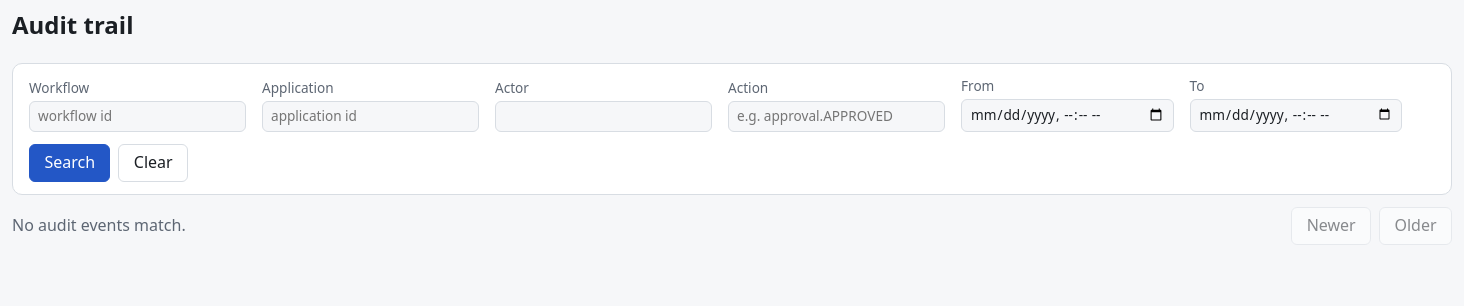
Test: searching the audit trail › refuses a malformed workflow id or an inverted range before asking the API
The image size is (1464, 306).
Expected: the text "No audit events match." is shown, [12, 214, 186, 237]
Type "not-a-uuid" into the field labelled "Workflow".
click(138, 116); type("not-a-uuid")  # box [29, 100, 246, 132]
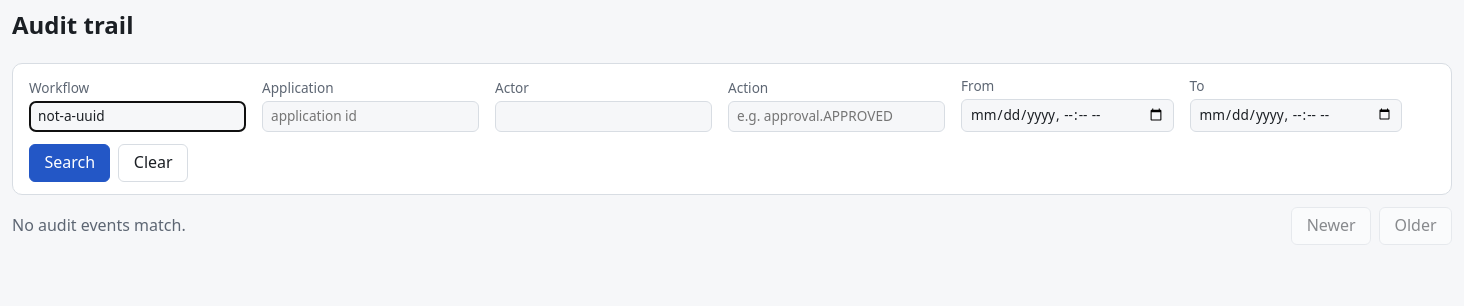
Click the button "Search".
click(70, 163)  # box [29, 144, 110, 182]
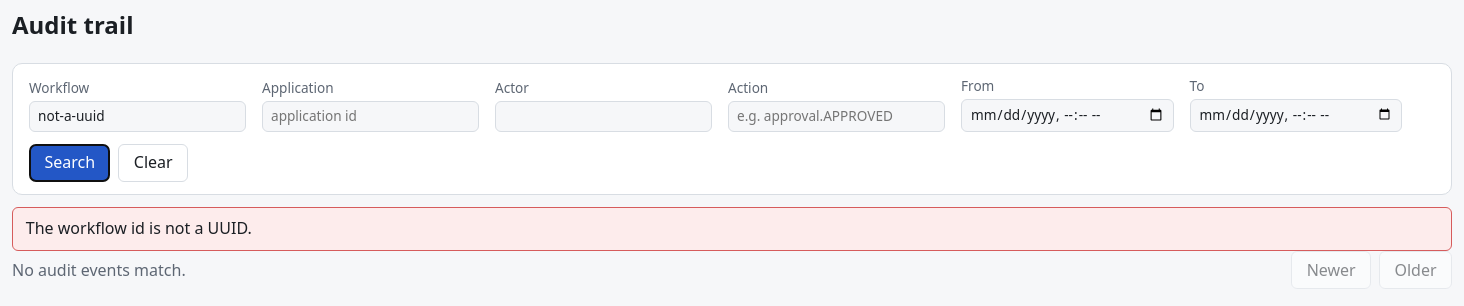
Expected: the message shows "not a UUID", [26, 217, 252, 239]
Clear the field labelled "Workflow" at [138, 116], box [29, 100, 246, 132]
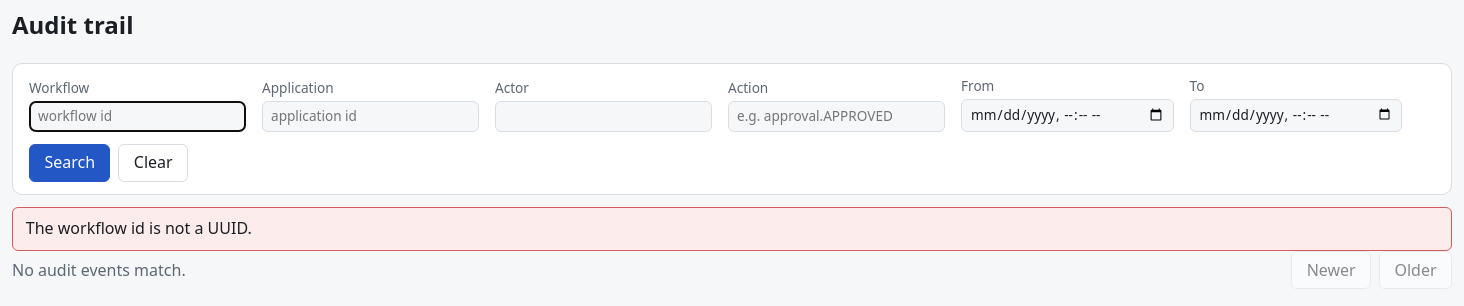
Type "2026-11-17T11:00" into the field labelled "From".
click(1067, 115); type("2026-11-17T11:00")  # box [961, 98, 1174, 132]
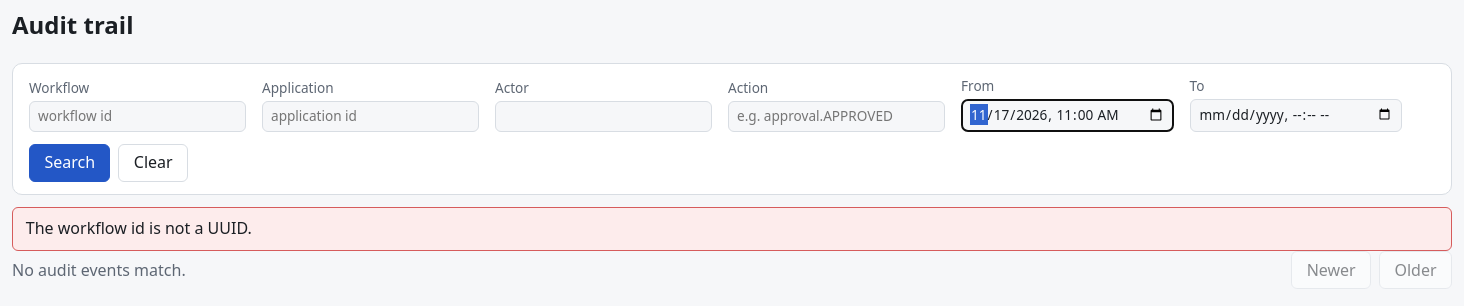
Type "2026-11-17T09:00" into the field labelled "To".
click(1296, 115); type("2026-11-17T09:00")  # box [1190, 98, 1402, 132]
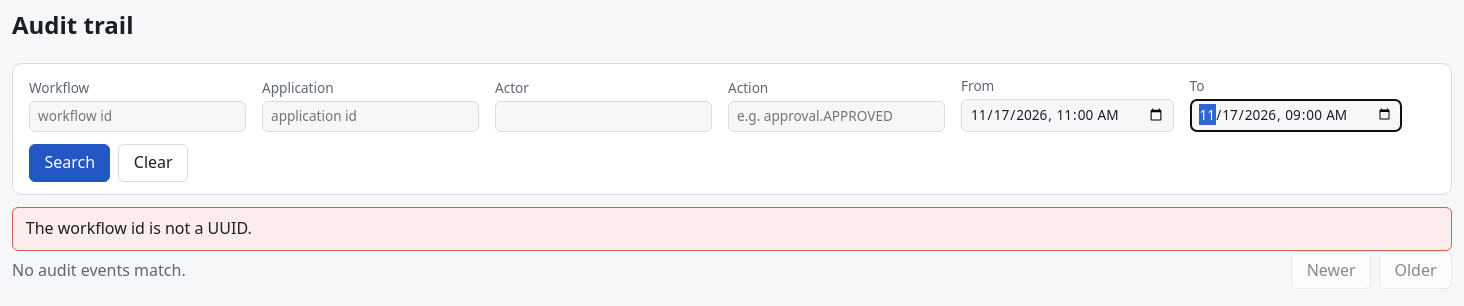
Click the button "Search".
click(70, 163)  # box [29, 144, 110, 182]
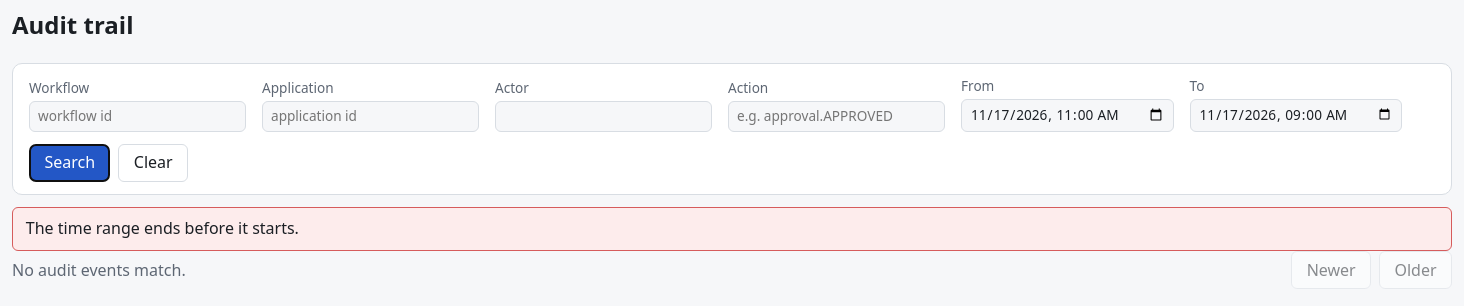
Expected: the message shows "ends before it starts", [26, 217, 299, 239]
